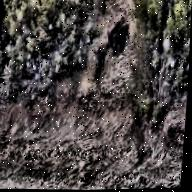boar: (110, 24, 135, 62), (90, 36, 109, 82), (103, 11, 125, 48)
